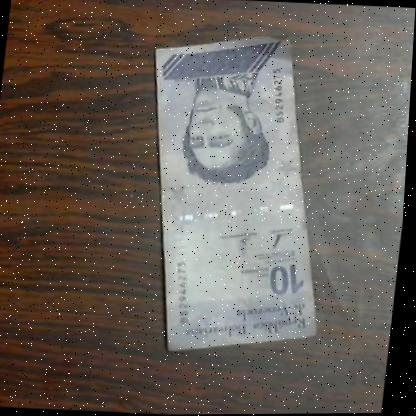ten-front-vef: (126, 28, 351, 360)
